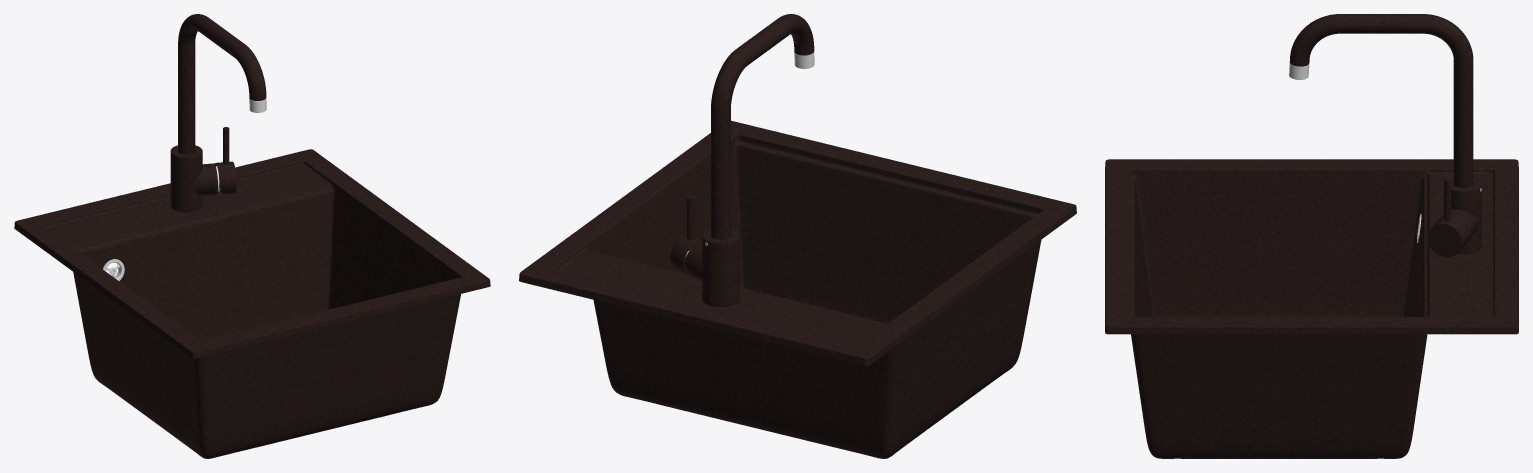
3 renders of one model, left to right at view 1: azimuth 30°, elevation 25°; view 2: azimuth 150°, elevation 25°; view 3: azimuth 270°, elevation 25°, orthographic. The views are drawn at different scales.
Visible parts, largest first — view 1: 8_FIESTA_5149_poly_2_12_Mocco_0, Met_Silver_0; view 2: 8_FIESTA_5149_poly_2_12_Mocco_0; view 3: 8_FIESTA_5149_poly_2_12_Mocco_0.
Part boxes in pixels (box(x1,y1,x2,y2)): 8_FIESTA_5149_poly_2_12_Mocco_0: box(14, 14, 490, 458); Met_Silver_0: box(103, 98, 266, 280); 8_FIESTA_5149_poly_2_12_Mocco_0: box(519, 14, 1076, 458); 8_FIESTA_5149_poly_2_12_Mocco_0: box(1105, 14, 1518, 458).
Bounding box in the file's own units: 48.5 × 54.61 × 50.5.
Materials: 5 (2 with a texture image).
